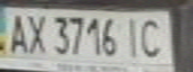1: (84, 14, 103, 56)
3: (48, 11, 69, 56)
6: (100, 15, 124, 58)
7: (66, 12, 84, 56)
A: (3, 10, 30, 56)
C: (136, 15, 172, 60)
I: (118, 15, 145, 60)
X: (21, 10, 48, 55)
